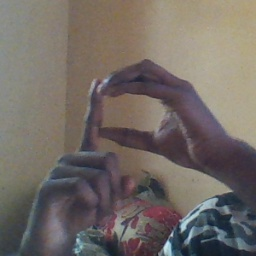P: (57, 57, 198, 212)
